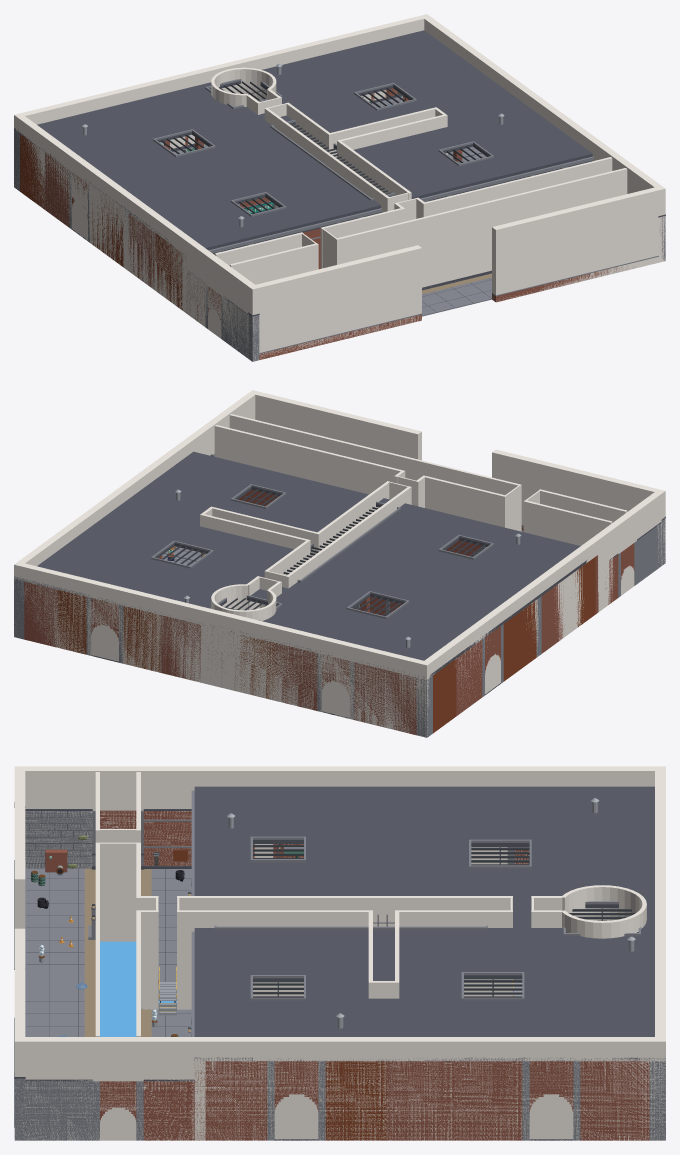
Rendered from CatCafe_Sewer_SetV32.fbx.
3 renders of one model, top to bottom at view 1: azimuth 30°, elevation 25°; view 2: azimuth 150°, elevation 25°; view 3: azimuth 270°, elevation 25°, orthographic. The views are drawn at different scales.
Visible parts, largest first — view 1: CatCafe_Sewer_SetV32_031_Roof, CatCafe_Sewer_SetV32_027_Walls_Barrier, CatCafe_Sewer_SetV32_028_Canals_Barrier, CatCafe_Sewer_SetV32_006_Wall, CatCafe_Sewer_SetV32_004_Wall, CatCafe_Sewer_SetV32, CatCafe_Sewer_SetV32_029_TunnelFront, CatCafe_Sewer_SetV32_026_TownWall, CatCafe_Sewer_SetV32_001_Wall, CatCafe_Sewer_SetV32_005_Wall, CatCafe_Sewer_SetV32_025_TownWall, CatCafe_Sewer_SetV32_007_CornerPier; view 2: CatCafe_Sewer_SetV32_031_Roof, CatCafe_Sewer_SetV32_027_Walls_Barrier, CatCafe_Sewer_SetV32_028_Canals_Barrier, CatCafe_Sewer_SetV32_022_Wall, CatCafe_Sewer_SetV32_021_Wall, CatCafe_Sewer_SetV32_023_Wall, CatCafe_Sewer_SetV32_024_Wall, CatCafe_Sewer_SetV32_006_Wall, CatCafe_Sewer_SetV32_004_Wall, CatCafe_Sewer_SetV32_005_Wall, CatCafe_Sewer_SetV32_019_TunnelMouth, CatCafe_Sewer_SetV32_020_TunnelMouth (+7 smaller); view 3: CatCafe_Sewer_SetV32_031_Roof, CatCafe_Sewer_SetV32_027_Walls_Barrier, CatCafe_Sewer_SetV32_028_Canals_Barrier, CatCafe_Sewer_SetV32_015_Wall, CatCafe_Sewer_SetV32, CatCafe_Sewer_SetV32_016_Wall, CatCafe_Sewer_SetV32_014_Wall, CatCafe_Sewer_SetV32_010_Wall, CatCafe_Sewer_SetV32_001_Wall, CatCafe_Sewer_SetV32_028_Canals_Water, CatCafe_Sewer_SetV32_011_Wall, CatCafe_Sewer_SetV32_012_TunnelMouth (+9 smaller).
Boxes of the visible parts, <box> form: CatCafe_Sewer_SetV32_031_Roof: <box>14,30,592,250</box>; CatCafe_Sewer_SetV32_027_Walls_Barrier: <box>14,14,665,360</box>; CatCafe_Sewer_SetV32_028_Canals_Barrier: <box>211,67,627,287</box>; CatCafe_Sewer_SetV32_006_Wall: <box>20,134,69,227</box>; CatCafe_Sewer_SetV32_004_Wall: <box>128,213,182,310</box>; CatCafe_Sewer_SetV32: <box>173,96,491,316</box>; CatCafe_Sewer_SetV32_029_TunnelFront: <box>183,156,593,269</box>; CatCafe_Sewer_SetV32_026_TownWall: <box>259,313,422,359</box>; CatCafe_Sewer_SetV32_001_Wall: <box>224,296,248,358</box>; CatCafe_Sewer_SetV32_005_Wall: <box>92,196,123,266</box>; CatCafe_Sewer_SetV32_025_TownWall: <box>491,255,658,302</box>; CatCafe_Sewer_SetV32_007_CornerPier: <box>248,312,259,361</box>; CatCafe_Sewer_SetV32_031_Roof: <box>14,451,586,677</box>; CatCafe_Sewer_SetV32_027_Walls_Barrier: <box>14,390,665,737</box>; CatCafe_Sewer_SetV32_028_Canals_Barrier: <box>200,414,627,620</box>; CatCafe_Sewer_SetV32_022_Wall: <box>123,606,200,680</box>; CatCafe_Sewer_SetV32_021_Wall: <box>24,581,86,654</box>; CatCafe_Sewer_SetV32_023_Wall: <box>240,635,317,710</box>; CatCafe_Sewer_SetV32_024_Wall: <box>354,662,416,735</box>; CatCafe_Sewer_SetV32_006_Wall: <box>433,640,482,733</box>; CatCafe_Sewer_SetV32_004_Wall: <box>541,557,595,653</box>; CatCafe_Sewer_SetV32_005_Wall: <box>503,600,536,681</box>; CatCafe_Sewer_SetV32_019_TunnelMouth: <box>86,597,123,663</box>; CatCafe_Sewer_SetV32_020_TunnelMouth: <box>317,653,354,719</box>; CatCafe_Sewer_SetV32_031_Roof: <box>194,786,665,1061</box>; CatCafe_Sewer_SetV32_027_Walls_Barrier: <box>14,766,665,1140</box>; CatCafe_Sewer_SetV32_028_Canals_Barrier: <box>95,772,646,1036</box>; CatCafe_Sewer_SetV32_015_Wall: <box>325,1061,522,1140</box>; CatCafe_Sewer_SetV32: <box>25,868,522,1036</box>; CatCafe_Sewer_SetV32_016_Wall: <box>580,1061,649,1140</box>; CatCafe_Sewer_SetV32_014_Wall: <box>205,1061,267,1140</box>; CatCafe_Sewer_SetV32_010_Wall: <box>25,1079,92,1140</box>; CatCafe_Sewer_SetV32_001_Wall: <box>25,809,92,868</box>; CatCafe_Sewer_SetV32_028_Canals_Water: <box>100,941,176,1036</box>; CatCafe_Sewer_SetV32_011_Wall: <box>143,1079,194,1140</box>; CatCafe_Sewer_SetV32_012_TunnelMouth: <box>267,1061,325,1140</box>.
Bounding box in the file's own units: 179 × 30 × 179.
Materials: 1 (1 with a texture image).
